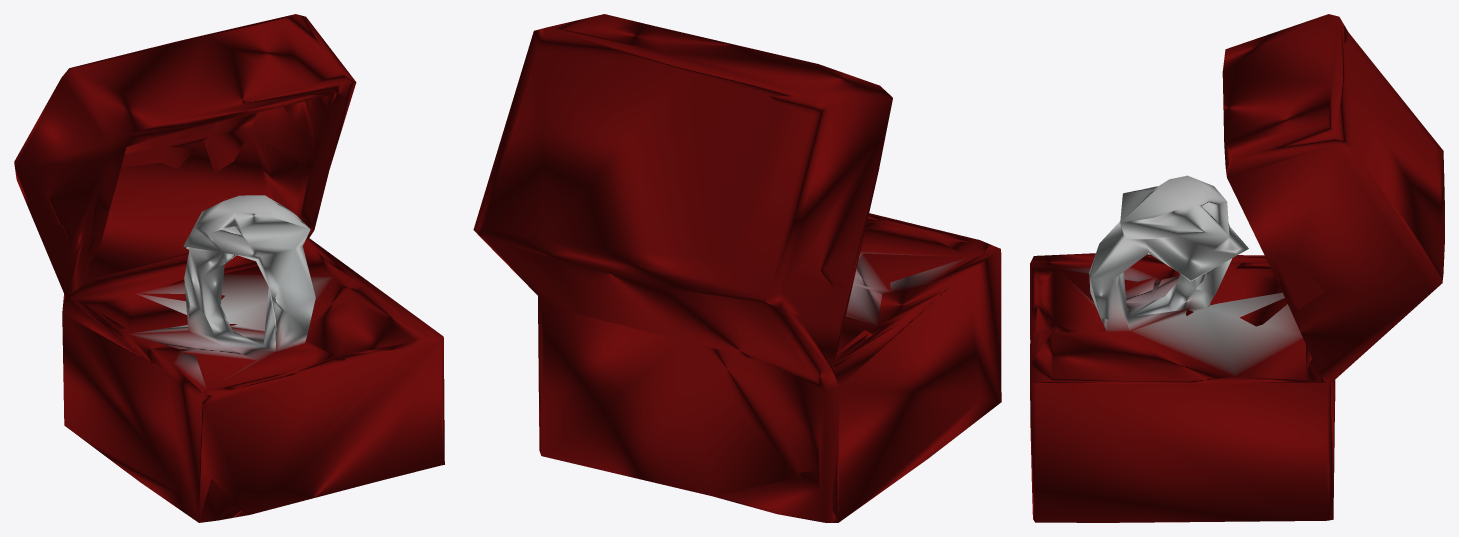
Rendered from gen3d-ring-box-lod1.glb.
3 views of the same model, side by side, from view 1: azimuth 30°, elevation 25°; view 2: azimuth 150°, elevation 25°; view 3: azimuth 270°, elevation 25° (orthographic). The views are drawn at different scales.
Visible parts, largest first — view 1: part_0; view 2: part_0; view 3: part_0.
Boxes of the visible parts, x1,y1,x2,y2 form: part_0: (14,14,444,522); part_0: (473,14,1001,522); part_0: (1030,14,1444,522).
Size of the model in its own units: 0.7277 by 0.9951 by 0.9726.
